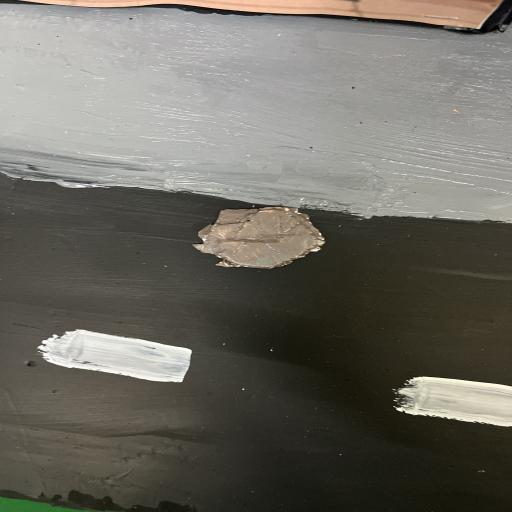porthole: (178, 196, 330, 269)
